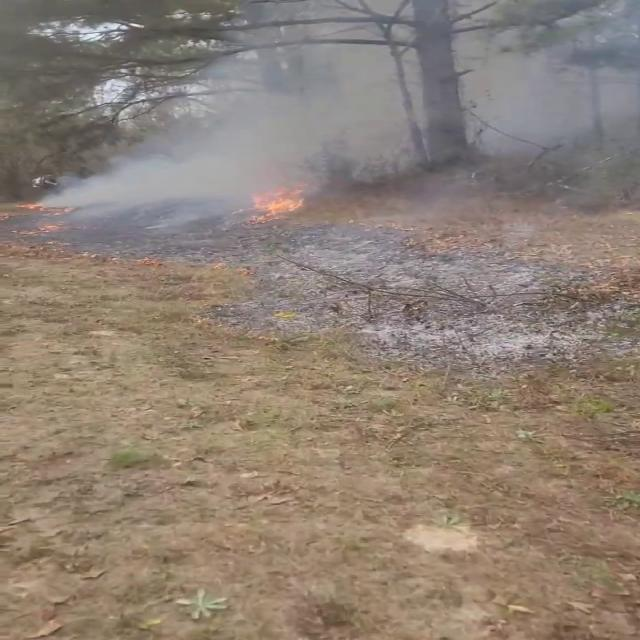Fire: (247, 182, 310, 222)
Smoke: (40, 2, 638, 258)
